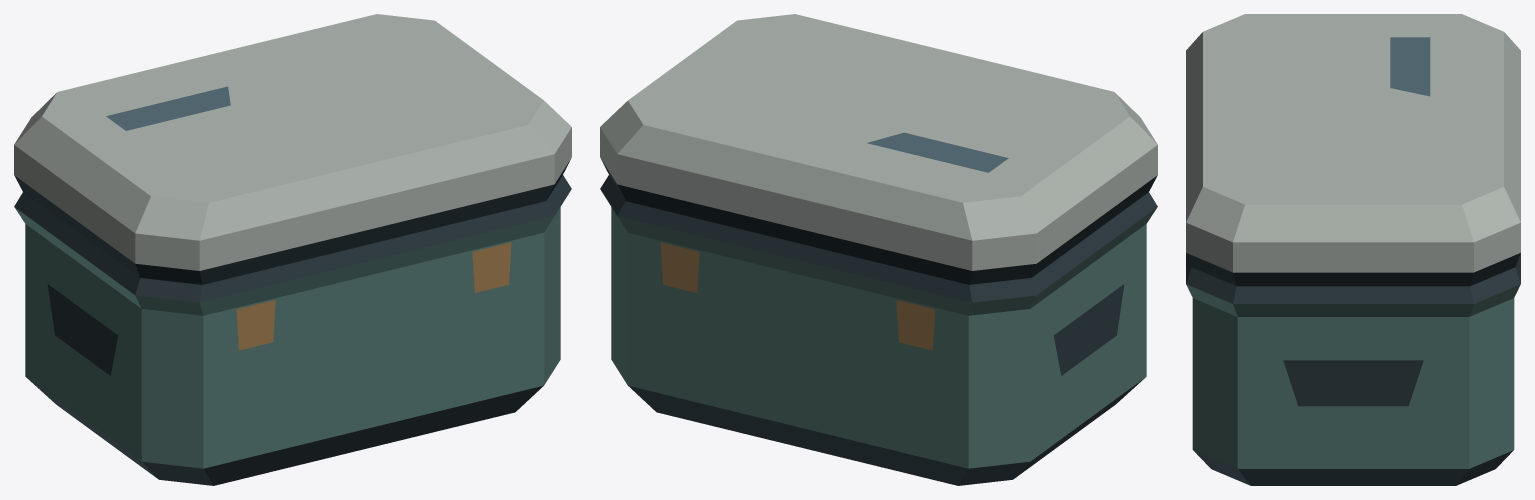
File: K-09_slat_crate.glb
The picture shows the model from 3 angles, left to right: view 1: azimuth 30°, elevation 25°; view 2: azimuth 150°, elevation 25°; view 3: azimuth 270°, elevation 25°; orthographic projection.
Visible parts, largest first — view 1: K-09_slat_crate; view 2: K-09_slat_crate; view 3: K-09_slat_crate.
Boxes of the visible parts, x1=… form: K-09_slat_crate: x1=14, y1=14, x2=571, y2=485; K-09_slat_crate: x1=600, y1=14, x2=1157, y2=485; K-09_slat_crate: x1=1186, y1=14, x2=1520, y2=485.
Size of the model in its own units: 0.624 by 0.3939 by 0.4168.
